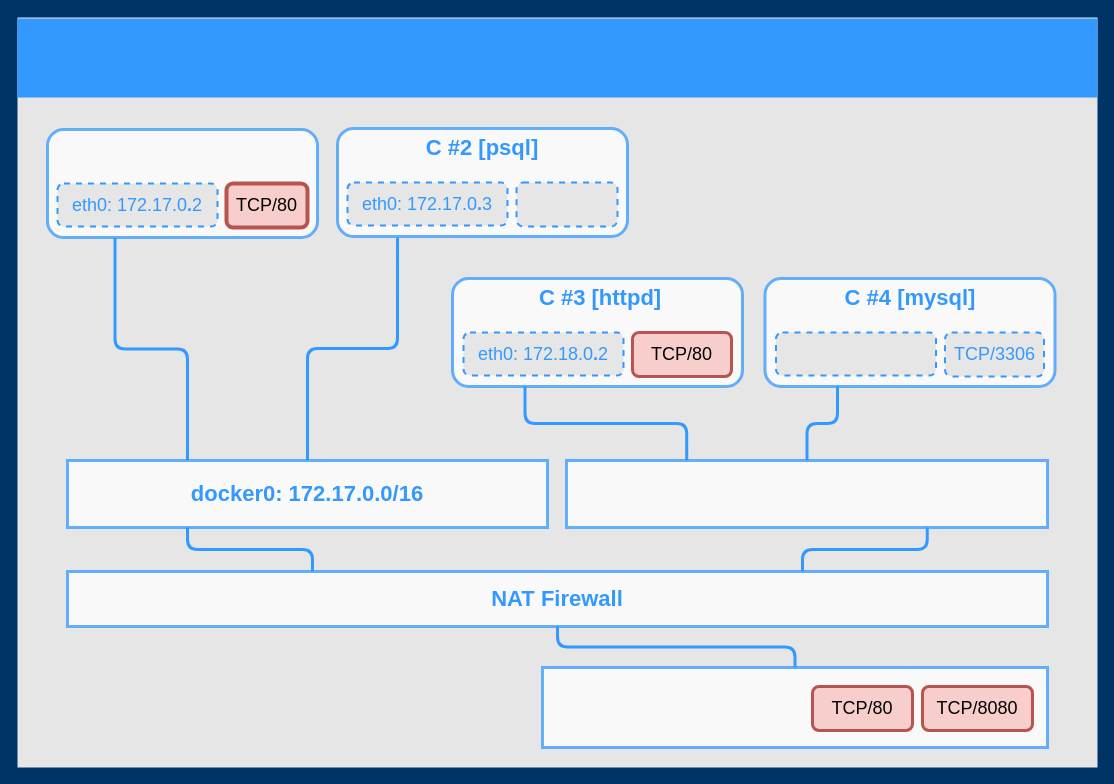
This 1114x784 diagram has some shape labels left out. Here are the shapes that lost their labels. From the top down, the box of each, then its label:
(17, 18, 1097, 97): Host Running Docker
(46, 128, 318, 238): C #1 [nginx]
(515, 181, 618, 227): TCP/ 5432
(774, 331, 936, 376): eth0: 172.18.0 . 3
(564, 458, 1048, 528): net2: 172.18.0.0/16
(540, 666, 1048, 748): eth0: 192.168.99.100
